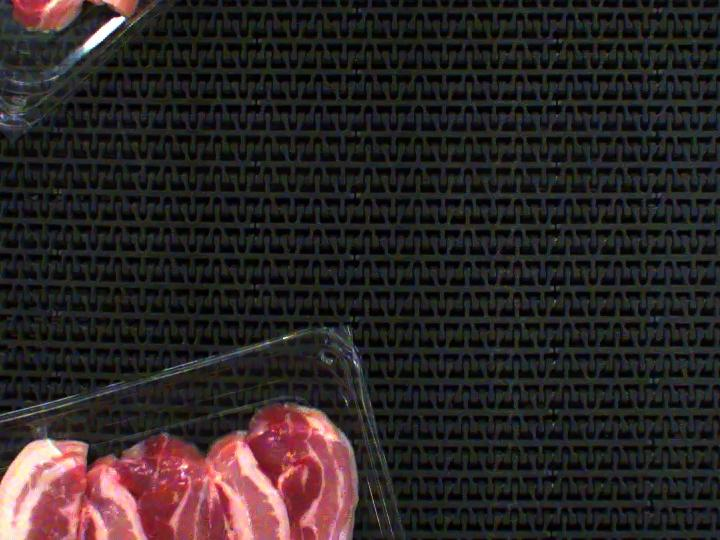packaging-error: (17, 413, 52, 441)
